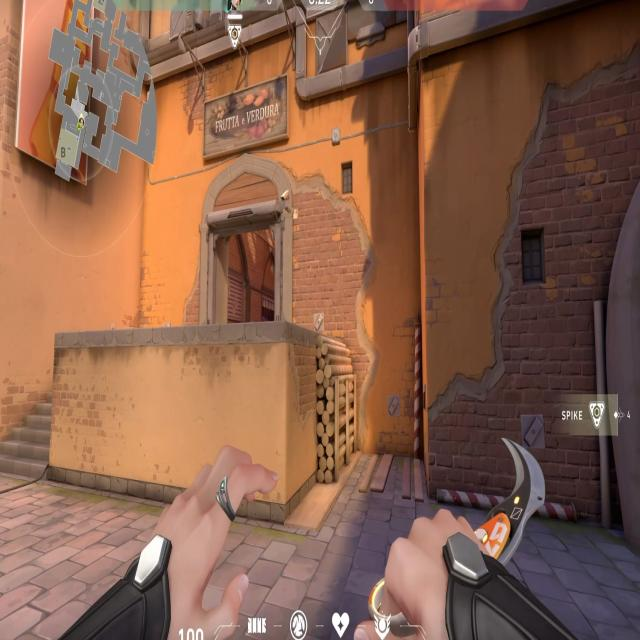B_Cubby: (277, 321, 354, 513)
